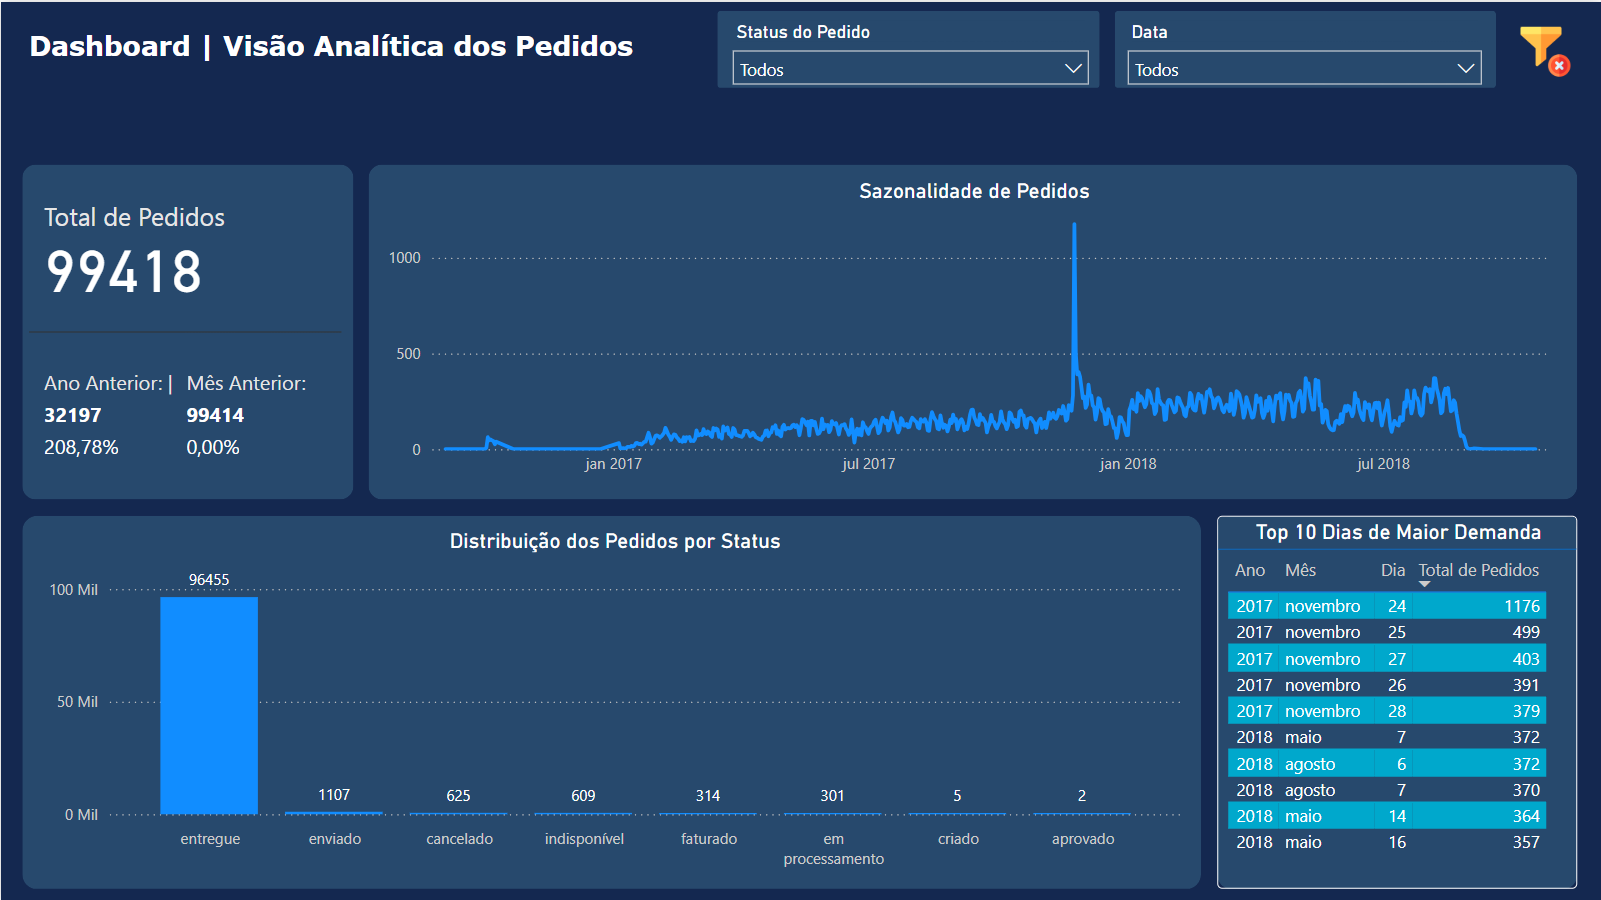

What the dashboard file says about the page in this screenshot:
{"tool":"powerbi","page":{"name":"Pedidos","canvas":[1280,720],"ordinal":0},"visuals":[{"type":"shape","box":[573,6.6,306.4,62.3],"z":0,"group":"g2"},{"type":"shape","box":[891,6.6,305.1,62.3],"z":0,"group":"g1"},{"type":"shape","box":[294.5,130.1,966.9,267.5],"z":0},{"type":"slicer","fields":{"Values":["Consulta2.order_status"]},"box":[574.8,9.3,305.5,60.1],"z":1000,"group":"g2"},{"type":"slicer","fields":{"Values":["Calendario.Date.Variation.Hierarquia de datas.Ano","Calendario.Date.Variation.Hierarquia de datas.Mês"]},"box":[891.3,9.8,302.3,59.1],"z":1000,"group":"g1"},{"type":"shape","box":[17.2,411,942.3,299.4],"z":1000},{"type":"image","box":[1210.3,10.5,49.9,59.1],"z":2000},{"type":"shape","box":[17.2,130.1,265,267.5],"z":3000},{"type":"shape","box":[973,411,288.3,299.4],"z":4000},{"type":"clusteredColumnChart","title":"Distribuição dos Pedidos por Status","fields":{"Y":["Sum(Consulta2.numero_pedidos)"],"Category":["Consulta2.order_status"]},"box":[31.9,420.9,917.8,279.8],"z":5000},{"type":"lineChart","title":"Sazonalidade de Pedidos","fields":{"Category":["Consulta2.data_compra.Variation.Hierarquia de datas.Ano","Calendario.Date.Variation.Hierarquia de datas.Mês"],"Y":["Sum(Consulta2.numero_pedidos)"]},"box":[304.3,141.1,948.5,246.6],"z":6000},{"type":"tableEx","title":"Top 10 Dias de Maior Demanda","fields":{"Values":["Consulta3.dia.Variation.Hierarquia de datas.Ano","Consulta3.dia.Variation.Hierarquia de datas.Mês","Consulta3.dia.Variation.Hierarquia de datas.Dia","Sum(Consulta3.total_pedidos)"]},"box":[973,411,288.3,299.4],"z":7000},{"type":"cardVisual","fields":{"Data":["Medidas.TotalPedidos"]},"box":[17.2,130.1,260.1,267.5],"z":8000},{"type":"textbox","box":[17.2,17.2,504.3,41.7],"z":9000},{"type":"group","id":"g1","title":"Segmentação Data","box":[891,6.6,305.1,62.3],"z":10000},{"type":"group","id":"g2","title":"Segmentação Status","box":[573,6.6,307.5,63.1],"z":11000}]}

Visuals, with their boxes in screenshot pixels (x1, y1, x2, y2), scaled from the page's 1280x720 canvas onto the 1601x900 screenshot:
shape: (left=717, top=8, right=1100, bottom=86)
shape: (left=1114, top=8, right=1496, bottom=86)
shape: (left=368, top=163, right=1578, bottom=497)
slicer - Consulta2.order_status: (left=719, top=12, right=1101, bottom=87)
slicer - Calendario.Date.Variation.Hierarquia de datas.Ano x Calendario.Date.Variation.Hierarquia de datas.Mês: (left=1115, top=12, right=1493, bottom=86)
shape: (left=22, top=514, right=1200, bottom=888)
image: (left=1514, top=13, right=1576, bottom=87)
shape: (left=22, top=163, right=353, bottom=497)
shape: (left=1217, top=514, right=1578, bottom=888)
"Distribuição dos Pedidos por Status" clusteredColumnChart: (left=40, top=526, right=1188, bottom=876)
"Sazonalidade de Pedidos" lineChart: (left=381, top=176, right=1567, bottom=485)
"Top 10 Dias de Maior Demanda" tableEx: (left=1217, top=514, right=1578, bottom=888)
cardVisual - Medidas.TotalPedidos: (left=22, top=163, right=347, bottom=497)
textbox: (left=22, top=22, right=652, bottom=74)
"Segmentação Data" group: (left=1114, top=8, right=1496, bottom=86)
"Segmentação Status" group: (left=717, top=8, right=1101, bottom=87)
